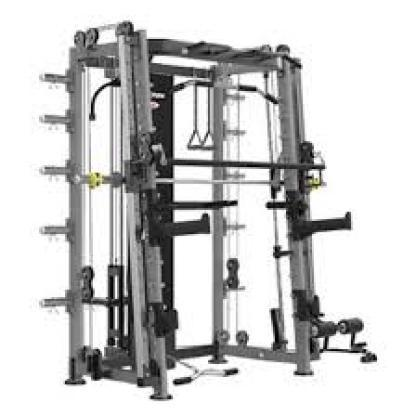smith machine: (40, 19, 379, 402)
